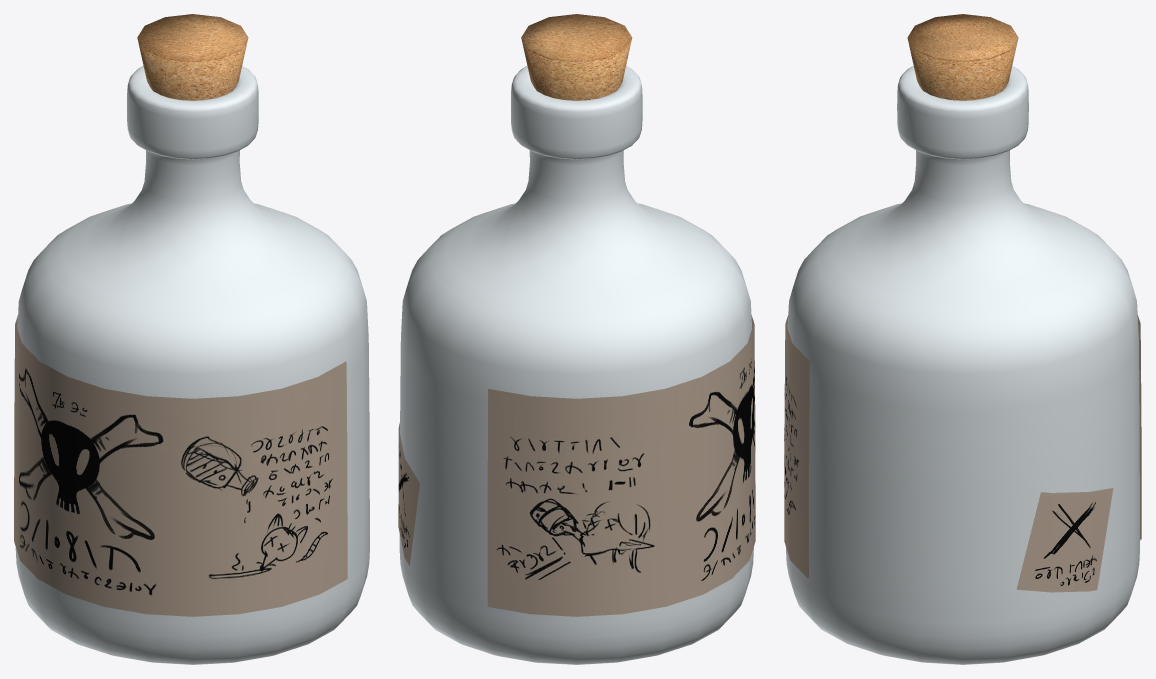
Rendered from bottle.glb.
3 renders of one model, left to right at view 1: azimuth 30°, elevation 25°; view 2: azimuth 150°, elevation 25°; view 3: azimuth 270°, elevation 25°, orthographic.
Parts seen in each view (by area): view 1: glass, label, cork; view 2: glass, label, cork, tag; view 3: glass, cork, tag, label (×2).
Boxes of the visible parts, box(x1,y1,x2,y2) form: glass: box(15, 66, 369, 664); label: box(14, 315, 347, 616); cork: box(137, 14, 248, 100); glass: box(399, 66, 753, 664); label: box(487, 315, 755, 616); cork: box(521, 14, 632, 100); tag: box(398, 422, 419, 565); glass: box(786, 66, 1139, 664); cork: box(907, 14, 1018, 100); tag: box(1016, 488, 1113, 592); label (×2): box(784, 315, 1141, 578).
Bounding box in the file's own units: 0.1911 × 0.3331 × 0.192.
Materials: 6 (3 with a texture image).
